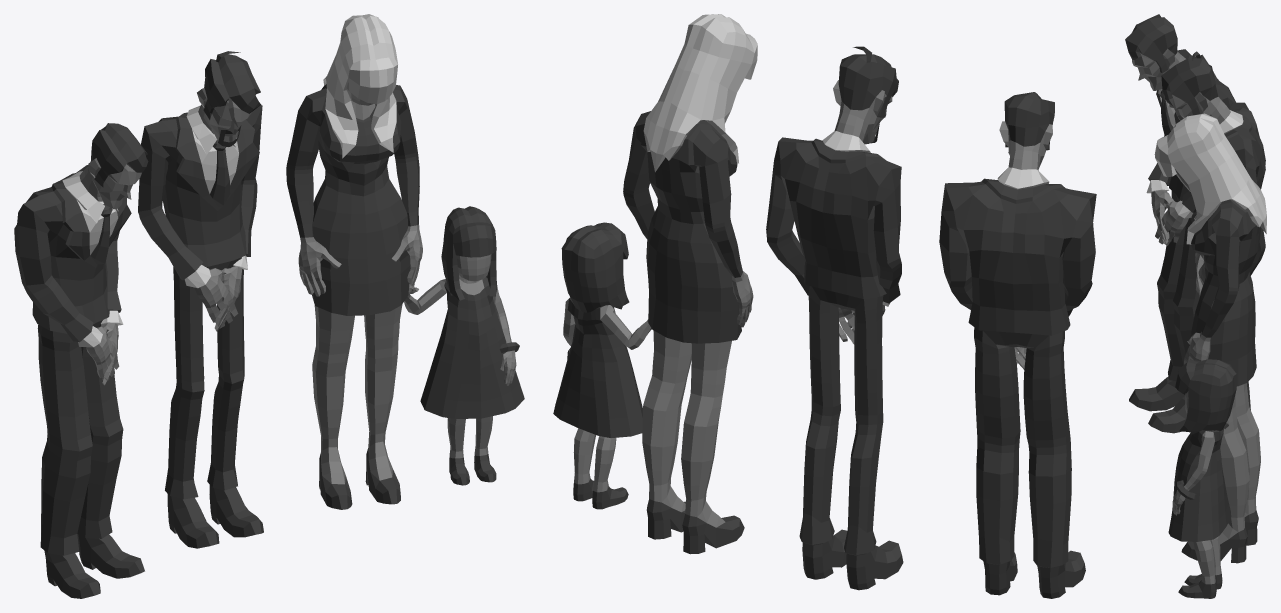
Rendered from people.fbx.
3 renders of one model, left to right at view 1: azimuth 30°, elevation 25°; view 2: azimuth 150°, elevation 25°; view 3: azimuth 270°, elevation 25°, orthographic. The views are drawn at different scales.
Parts seen in each view (by area): view 1: people; view 2: people; view 3: people.
Boxes of the visible parts, box(x1,y1,x2,y2) form: people: box(14, 14, 524, 598); people: box(553, 14, 1096, 598); people: box(1125, 14, 1266, 598).
Size of the model in its own units: 269 by 248 by 73.81.
